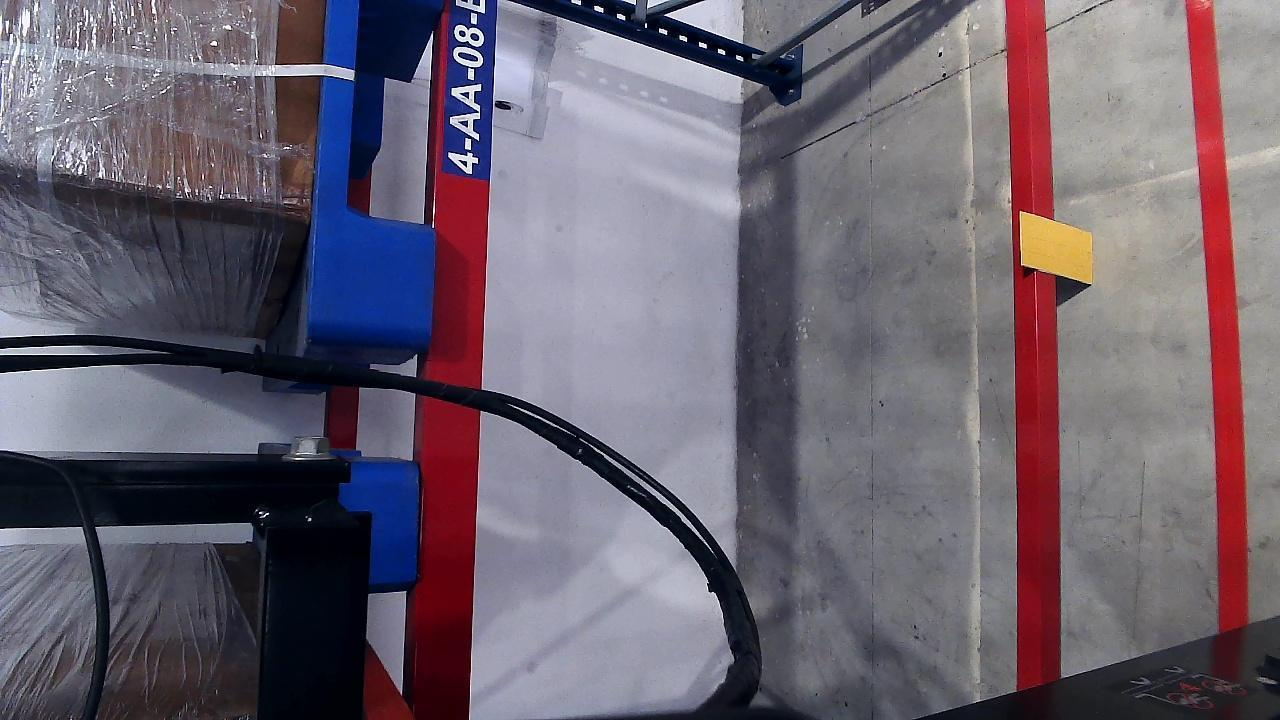red_line: (1182, 0, 1248, 598)
